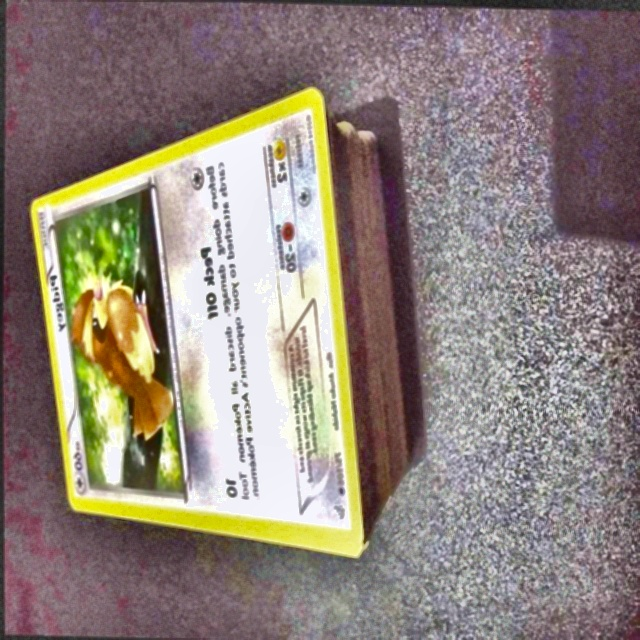card: (29, 85, 363, 552)
